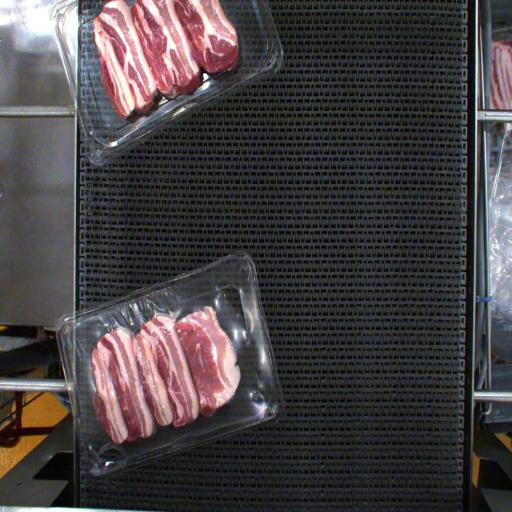unsealed: (56, 270, 281, 444)
